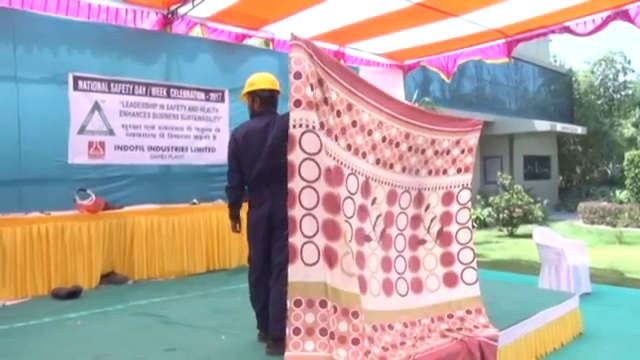helmet: (241, 71, 282, 103)
helmet_on: (240, 70, 282, 120)
person: (224, 69, 290, 355)
